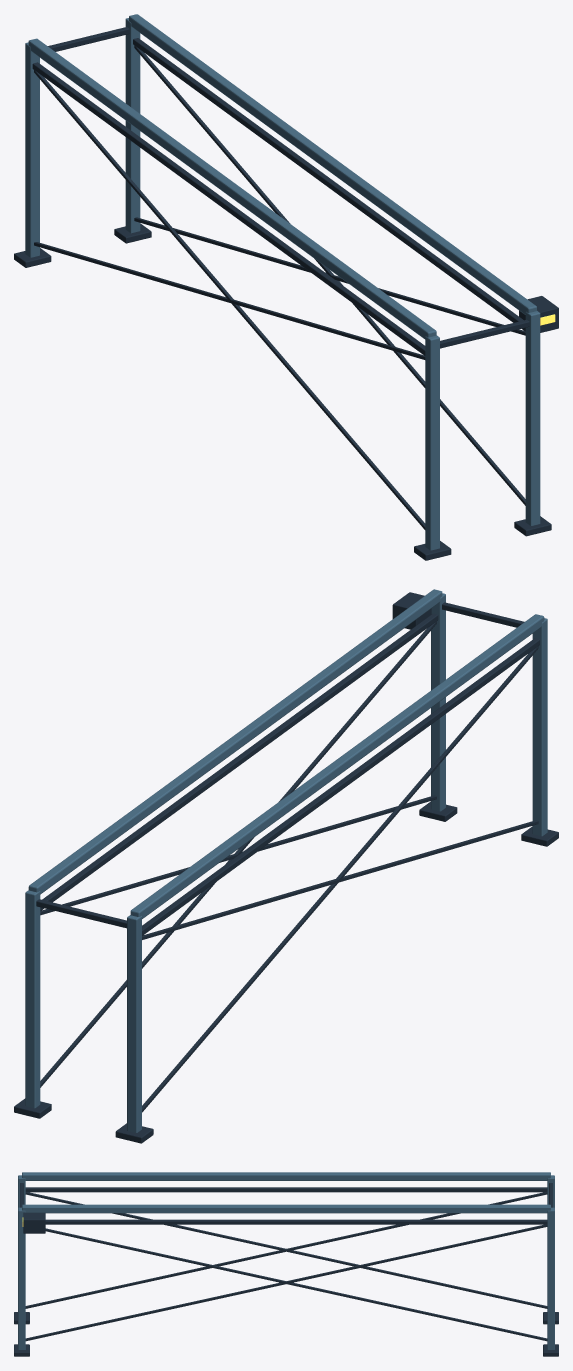
The model's file is rebar-gantry-frame-low.glb.
The picture shows the model from 3 angles, top to bottom: view 1: azimuth 30°, elevation 25°; view 2: azimuth 150°, elevation 25°; view 3: azimuth 270°, elevation 25°; orthographic projection. The views are drawn at different scales.
Parts seen in each view (by area): view 1: CR-02-cross-girder.002, CR-02-cross-girder.003, CR-02-lower-girder.002, CR-02-lower-girder.003, CR-02-leg.006, CR-02-leg.004, CR-02-brace-a.002, CR-02-leg.005, CR-02-leg.007, CR-02-brace-a.003, CR-02-brace-b.002, CR-02-brace-b.003 (+1 smaller); view 2: CR-02-cross-girder.003, CR-02-cross-girder.002, CR-02-lower-girder.002, CR-02-lower-girder.003, CR-02-leg.007, CR-02-leg.005, CR-02-leg.004, CR-02-brace-b.002, CR-02-leg.006, CR-02-brace-b.003, CR-02-brace-a.002, CR-02-brace-a.003 (+2 smaller); view 3: CR-02-cross-girder.003, CR-02-cross-girder.002, CR-02-lower-girder.002, CR-02-lower-girder.003, CR-02-brace-a.003, CR-02-brace-b.003, CR-02-brace-a.002, CR-02-brace-b.002, CR-02-leg.007, CR-02-leg.006, CR-02-cabin.001.
Part boxes in pixels (left/top/right/bottom): CR-02-cross-girder.002: left=28, top=38, right=436, bottom=339; CR-02-cross-girder.003: left=129, top=14, right=536, bottom=314; CR-02-lower-girder.002: left=32, top=62, right=425, bottom=355; CR-02-lower-girder.003: left=133, top=38, right=525, bottom=331; CR-02-leg.006: left=525, top=311, right=540, bottom=525; CR-02-leg.004: left=425, top=335, right=439, bottom=550; CR-02-brace-a.002: left=34, top=70, right=425, bottom=529; CR-02-leg.005: left=25, top=42, right=39, bottom=257; CR-02-leg.007: left=125, top=18, right=140, bottom=233; CR-02-brace-a.003: left=134, top=45, right=525, bottom=505; CR-02-brace-b.002: left=34, top=242, right=425, bottom=359; CR-02-brace-b.003: left=134, top=217, right=525, bottom=335; CR-02-cross-girder.003: left=28, top=589, right=442, bottom=894; CR-02-cross-girder.002: left=130, top=614, right=544, bottom=918; CR-02-lower-girder.002: left=142, top=638, right=539, bottom=935; CR-02-lower-girder.003: left=40, top=613, right=438, bottom=910; CR-02-leg.007: left=25, top=890, right=40, bottom=1108; CR-02-leg.005: left=127, top=915, right=141, bottom=1132; CR-02-leg.004: left=532, top=618, right=547, bottom=836; CR-02-brace-b.002: left=142, top=646, right=538, bottom=1112; CR-02-leg.006: left=431, top=593, right=445, bottom=811; CR-02-brace-b.003: left=40, top=621, right=436, bottom=1087; CR-02-brace-a.002: left=142, top=820, right=538, bottom=939; CR-02-brace-a.003: left=40, top=795, right=436, bottom=915; CR-02-cross-girder.003: left=22, top=1204, right=550, bottom=1213; CR-02-cross-girder.002: left=22, top=1172, right=550, bottom=1180; CR-02-lower-girder.002: left=25, top=1187, right=547, bottom=1192; CR-02-lower-girder.003: left=45, top=1219, right=547, bottom=1224; CR-02-brace-a.003: left=25, top=1224, right=547, bottom=1341; CR-02-brace-b.003: left=45, top=1228, right=547, bottom=1341; CR-02-brace-a.002: left=25, top=1192, right=547, bottom=1308; CR-02-brace-b.002: left=25, top=1192, right=547, bottom=1308; CR-02-leg.007: left=547, top=1207, right=554, bottom=1349; CR-02-leg.006: left=18, top=1207, right=25, bottom=1349; CR-02-cabin.001: left=23, top=1212, right=45, bottom=1233.
Bounding box in the file's own units: 16.25 × 24.52 × 82.5.
